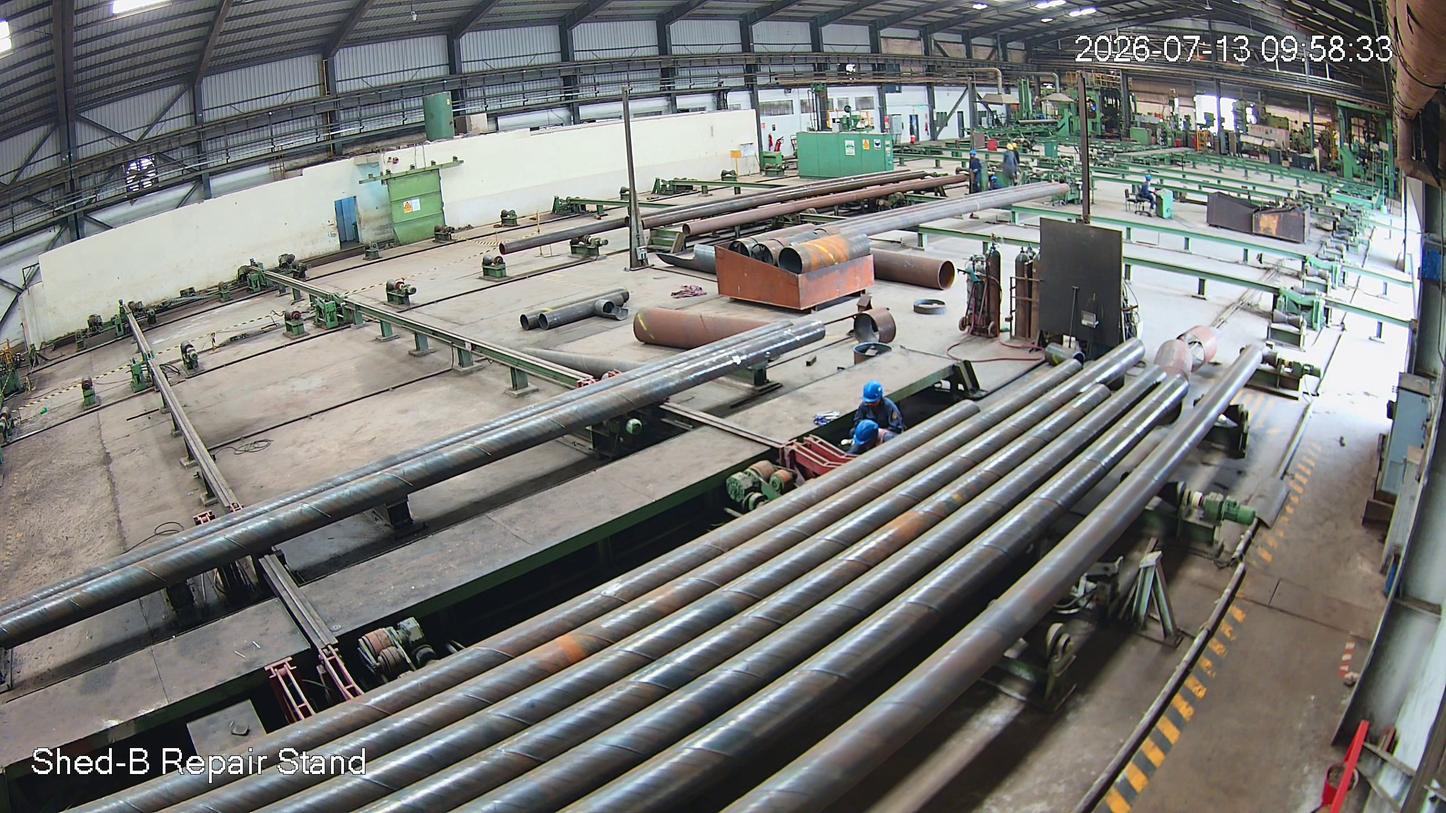Helmet: (852, 418, 885, 449), (860, 378, 885, 409)
Person: (852, 383, 909, 435), (843, 420, 903, 458)
